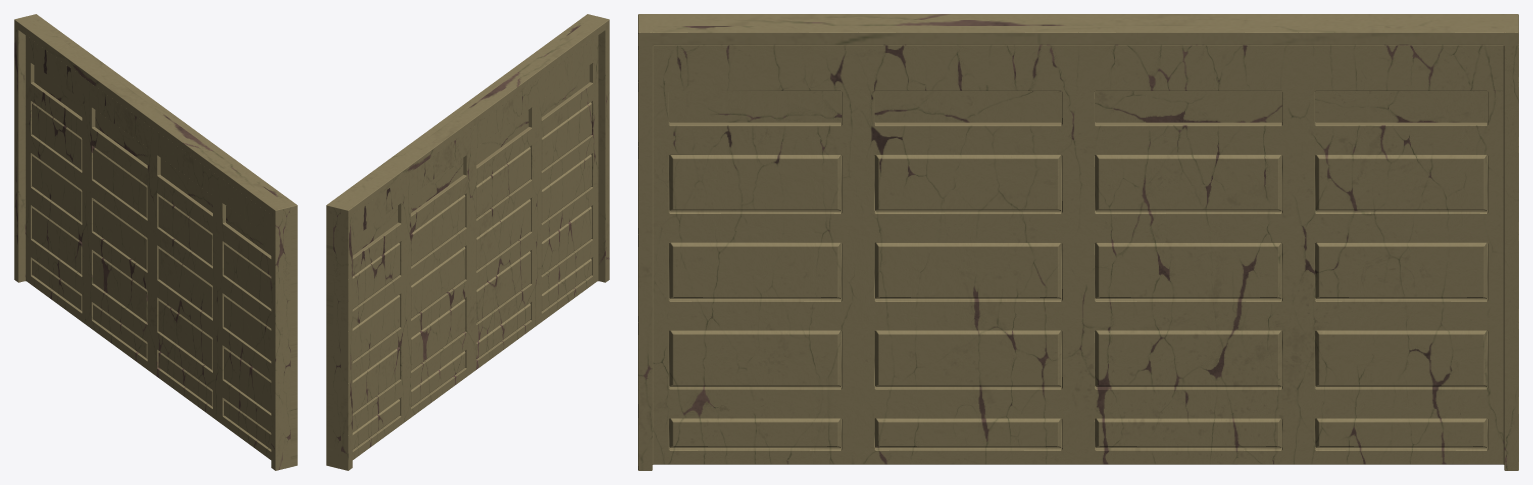
Rendered from GarageDoor.fbx.
3 views of the same model, side by side, from view 1: azimuth 30°, elevation 25°; view 2: azimuth 150°, elevation 25°; view 3: azimuth 270°, elevation 25° (orthographic). The views are drawn at different scales.
Parts seen in each view (by area): view 1: Garage Door; view 2: Garage Door; view 3: Garage Door.
Boxes of the visible parts, x1,y1,x2,y2 form: Garage Door: (14,14,297,470); Garage Door: (326,14,609,470); Garage Door: (638,14,1518,470).
Bounding box in the file's own units: 0.3 × 3.3 × 6.
